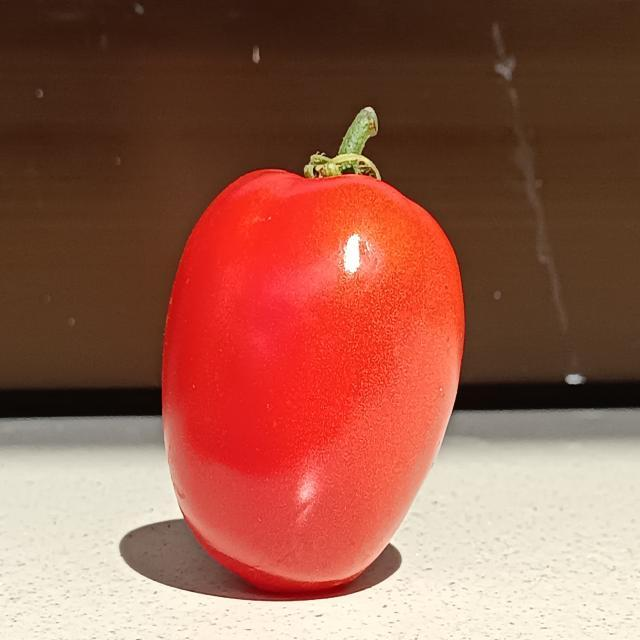Masak: (144, 155, 478, 599)
